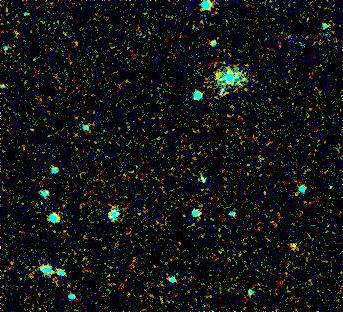star: (280, 229, 310, 259)
